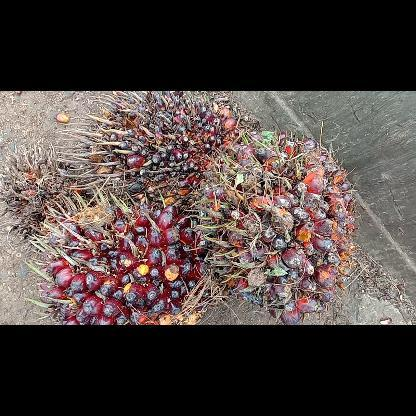TBS abnormal: (57, 90, 250, 214), (0, 140, 98, 260)
TBS masak: (193, 126, 361, 324), (22, 182, 224, 324)
